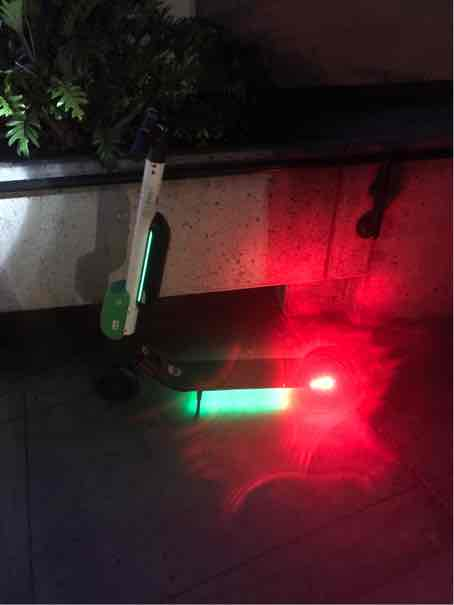scooter: (71, 117, 361, 431)
